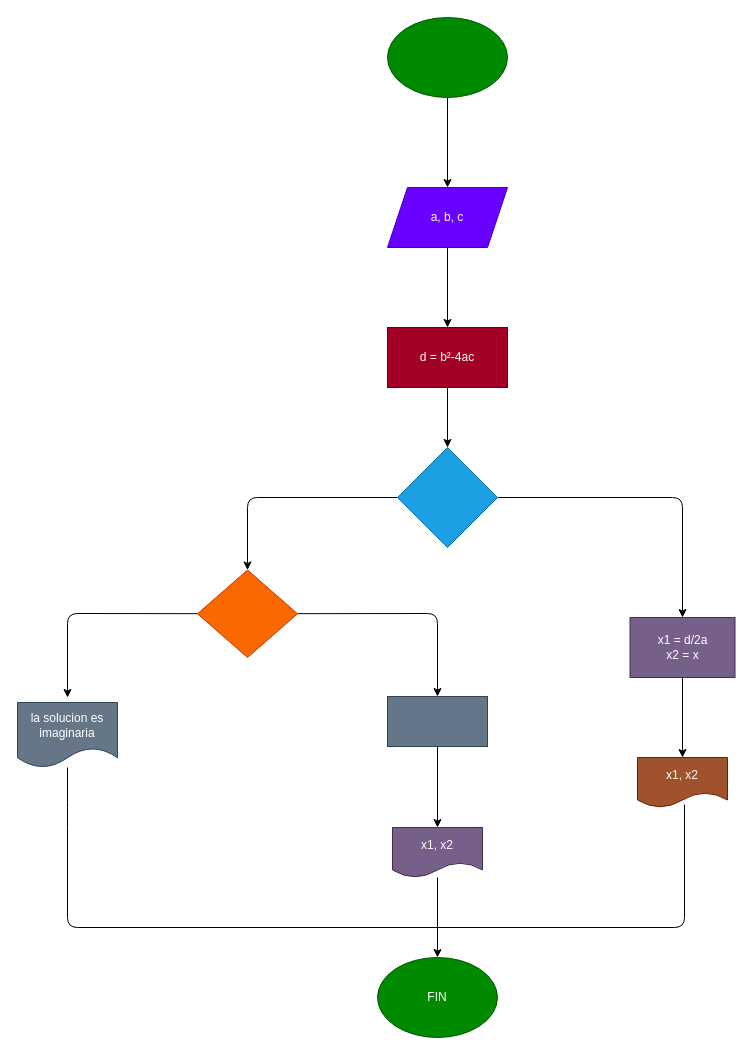
Some shapes in this 753 by 1055 pixel diagram are drawn without their labels. Here are the shapes that lost their labels. From the top down, the centre of each, then its label:
At point (447, 57): "INICIO".
At point (447, 497): "d == 0".
At point (247, 613): "d > 0".
At point (437, 721): "x1 = -b+√d/2a x2 = +b-√d/2a".
